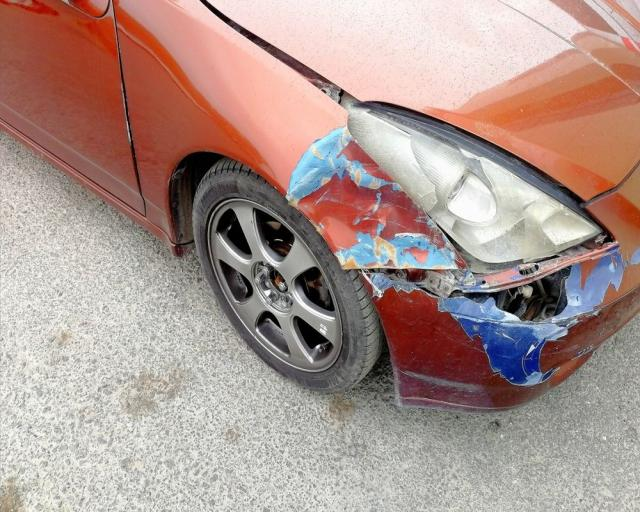dent: (289, 132, 467, 271)
lamp broken: (346, 106, 601, 266)
